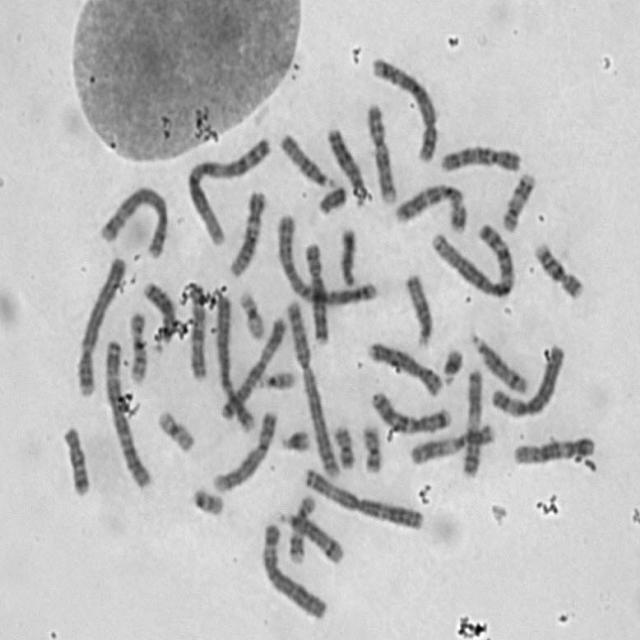A1: (186, 136, 271, 247), (429, 220, 516, 300)
A2: (287, 299, 342, 478), (276, 213, 381, 306)
A3: (300, 464, 430, 535), (104, 342, 153, 488)
B4: (75, 255, 125, 397), (216, 294, 256, 432)
B5: (368, 56, 438, 162), (100, 185, 169, 262)
C10: (436, 145, 523, 173), (188, 284, 208, 380)
C11: (410, 423, 494, 467), (462, 368, 484, 477)
C12: (226, 191, 268, 278), (512, 438, 594, 468)
C6: (262, 523, 329, 622), (490, 344, 565, 421)
C7: (392, 182, 468, 235), (371, 391, 452, 434)
C8: (364, 341, 442, 395), (302, 243, 332, 344)
C9: (212, 408, 278, 493), (363, 102, 398, 205)
D13: (327, 127, 372, 203), (143, 281, 178, 346)
D14: (278, 508, 346, 565), (469, 333, 530, 396)
D15: (280, 134, 336, 189), (405, 273, 434, 345)
E16: (529, 237, 585, 302), (124, 311, 150, 383)
E17: (286, 494, 318, 565), (501, 171, 536, 232)
E18: (60, 428, 93, 503), (339, 229, 357, 286)
F19: (158, 410, 198, 457), (237, 291, 264, 341)
F20: (332, 425, 357, 472), (362, 425, 383, 476)
G21: (279, 426, 312, 456), (442, 346, 463, 387)
G22: (189, 488, 226, 517), (264, 369, 296, 391)
X: (216, 314, 286, 422)
Y: (317, 187, 346, 216)
